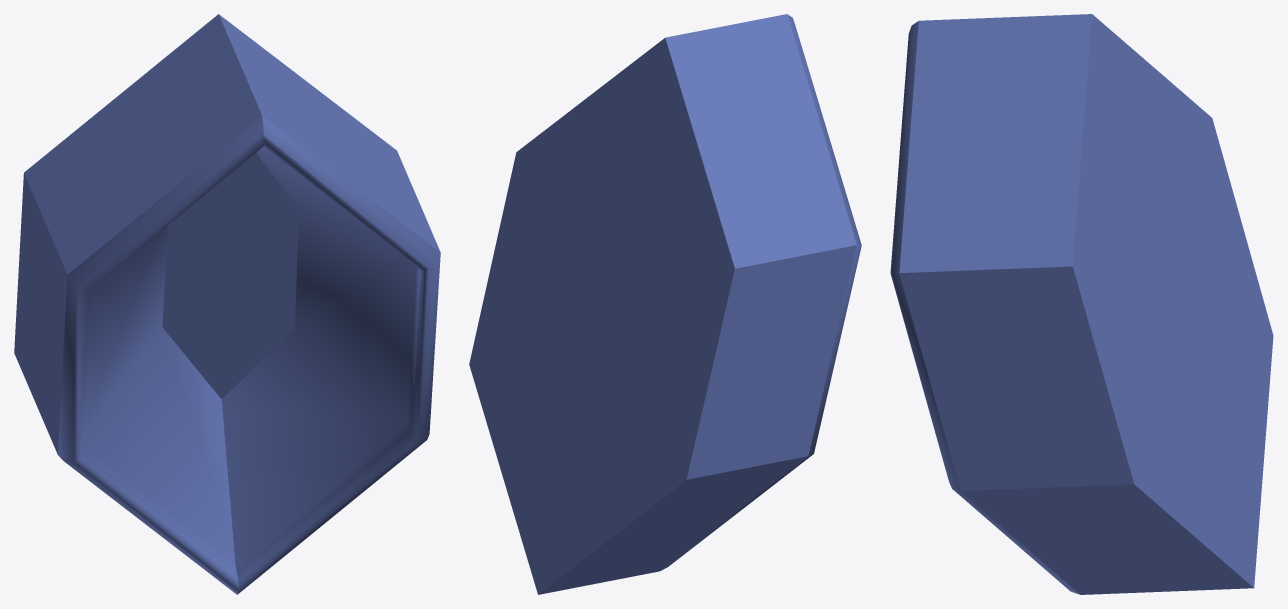
File: BL2_8shapes_Hex_Classic_Metal.001 3.glb
3 renders of one model, left to right at view 1: azimuth 30°, elevation 25°; view 2: azimuth 150°, elevation 25°; view 3: azimuth 270°, elevation 25°, orthographic. The views are drawn at different scales.
Parts seen in each view (by area): view 1: BL2_8shapes_Hex_Classic_Metal.001; view 2: BL2_8shapes_Hex_Classic_Metal.001; view 3: BL2_8shapes_Hex_Classic_Metal.001.
Boxes of the visible parts, x1,y1,x2,y2 form: BL2_8shapes_Hex_Classic_Metal.001: (14,14,440,594); BL2_8shapes_Hex_Classic_Metal.001: (469,14,861,594); BL2_8shapes_Hex_Classic_Metal.001: (890,14,1273,594).
Bounding box in the file's own units: 0.4408 × 0.6628 × 0.3998.
